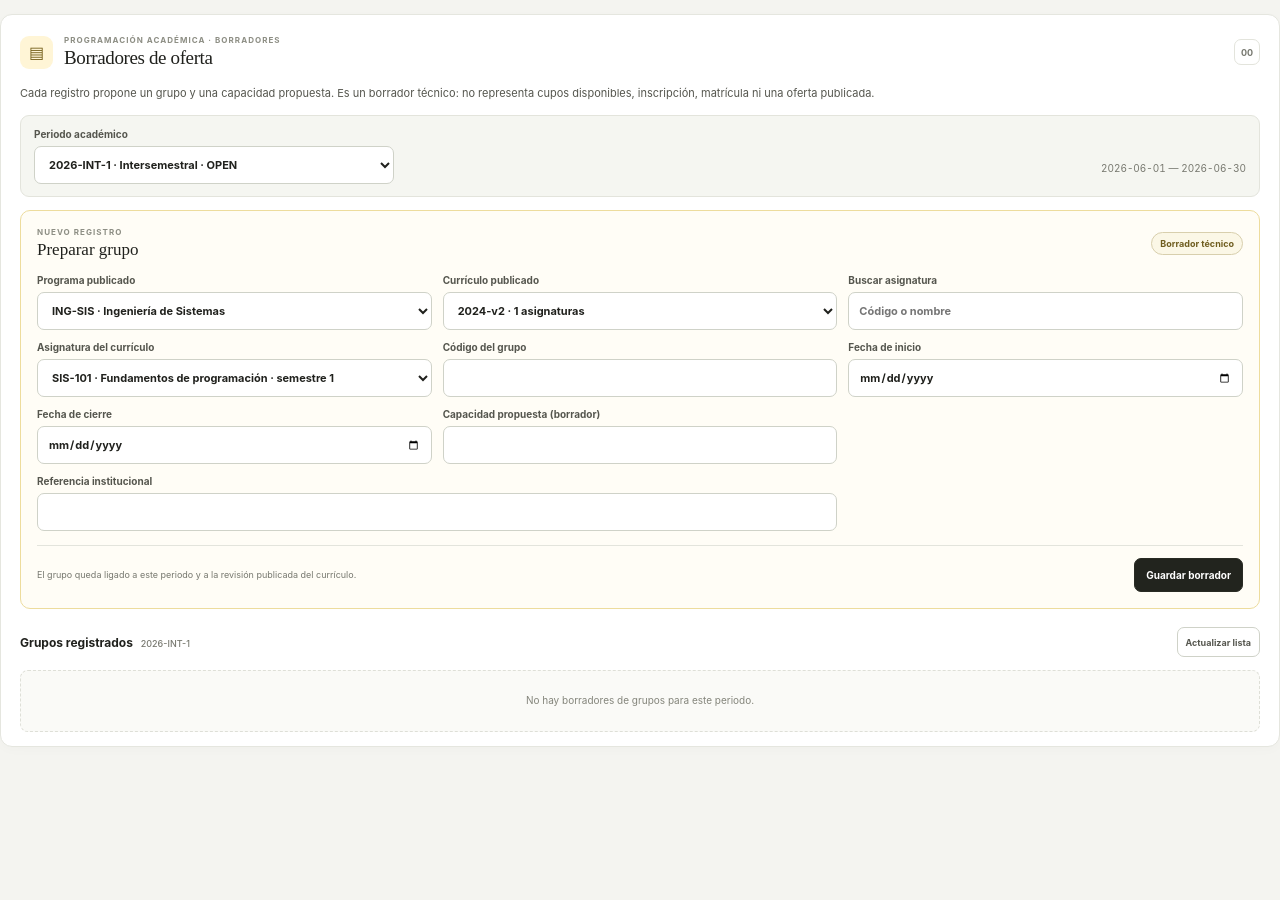
Test case: AcademicOfferingDraftPanel › creates a draft for a published curriculum subject and refreshes without implying availability
Expected: the text "No hay borradores de grupos para este periodo." is shown, [20,670,1260,732]
Type "a-02" into the field labelled "Código del grupo" at (640, 378), box [443,359,837,397]
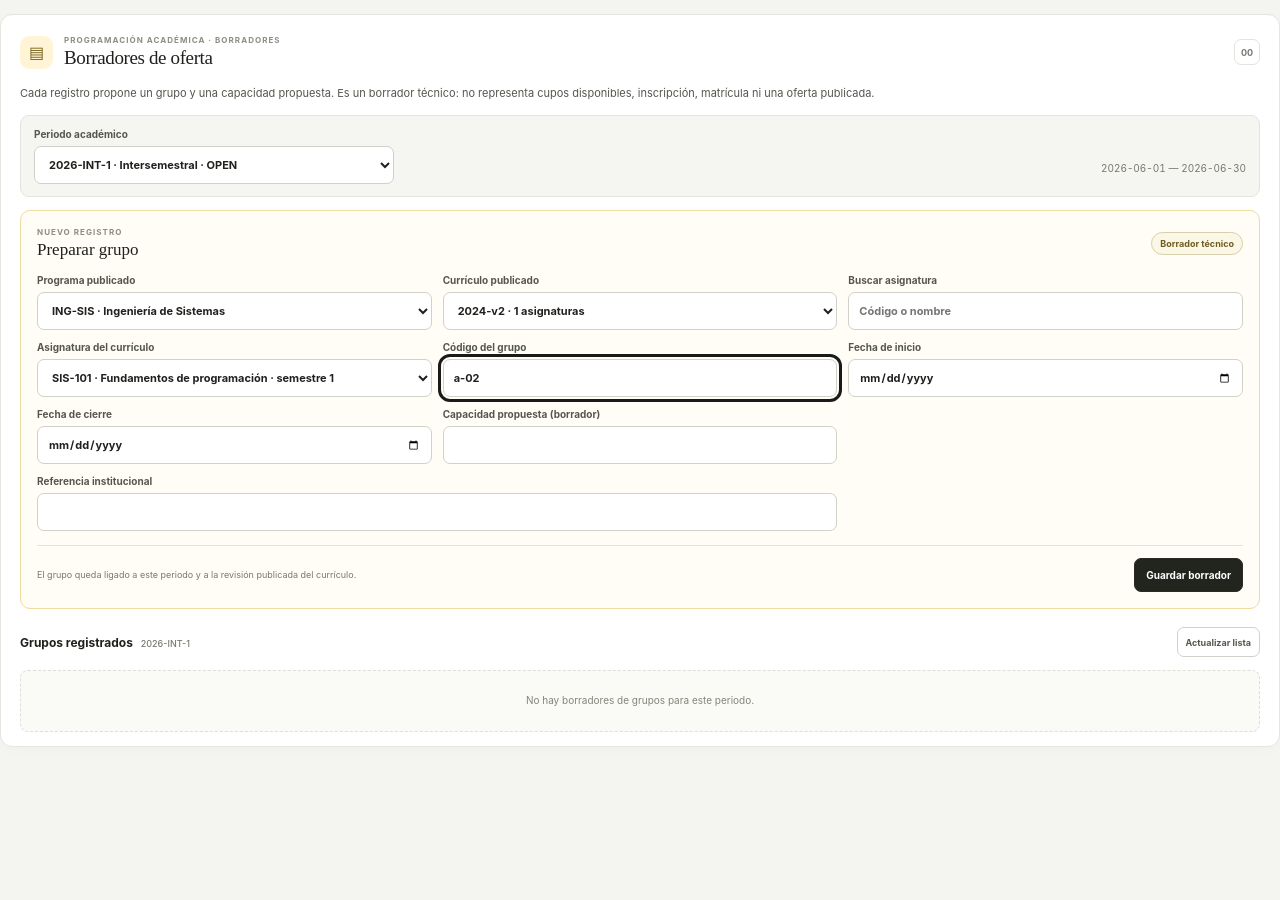
Type "Acta de coordinación 10" into the field labelled "Referencia institucional" at (437, 512), box [37,493,837,531]
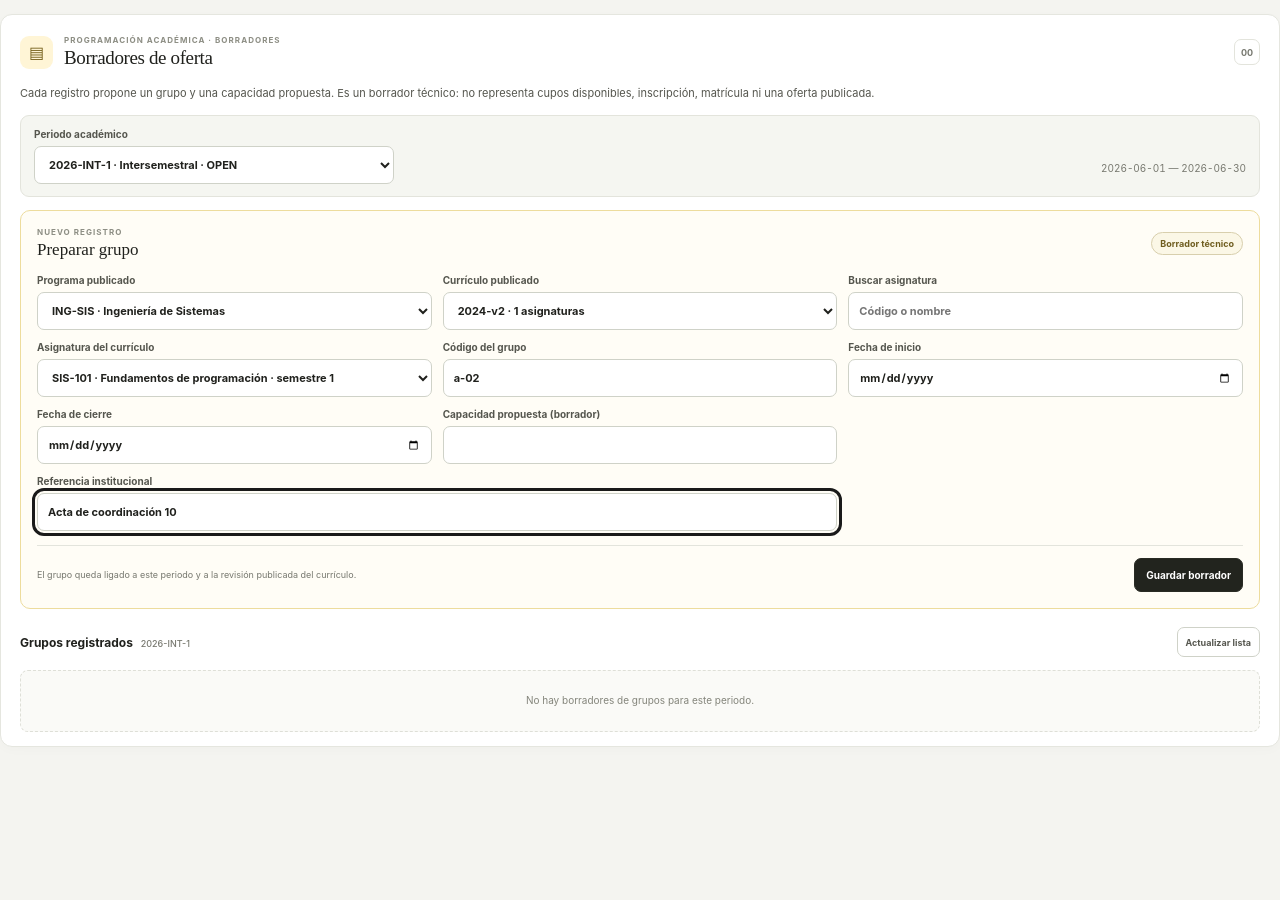
Type "18" into the number field labelled "Capacidad propuesta (borrador)" at (640, 445), box [443,426,837,464]
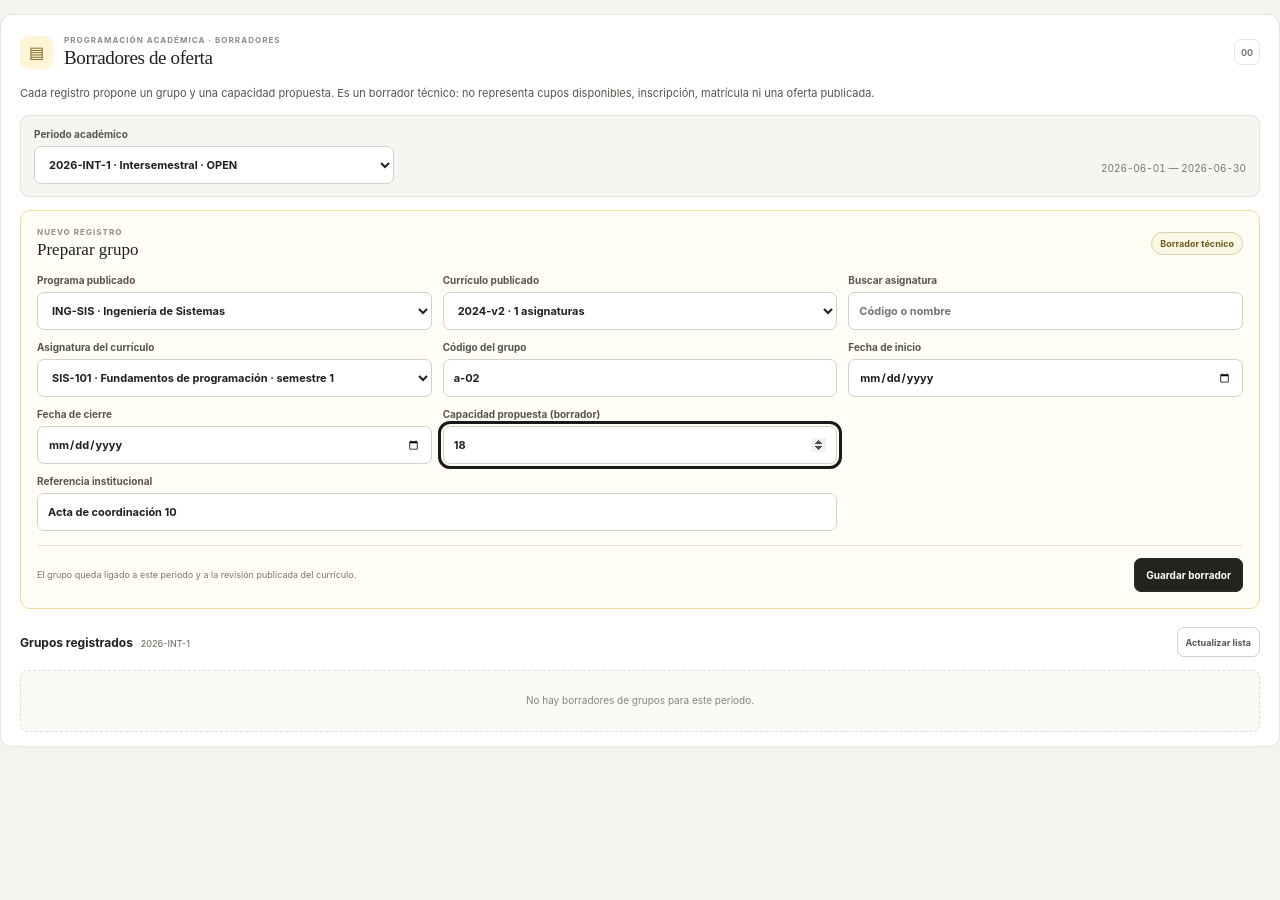
Type "2026-06-02" into the date field labelled "Fecha de inicio" at (1046, 378), box [848,359,1243,397]
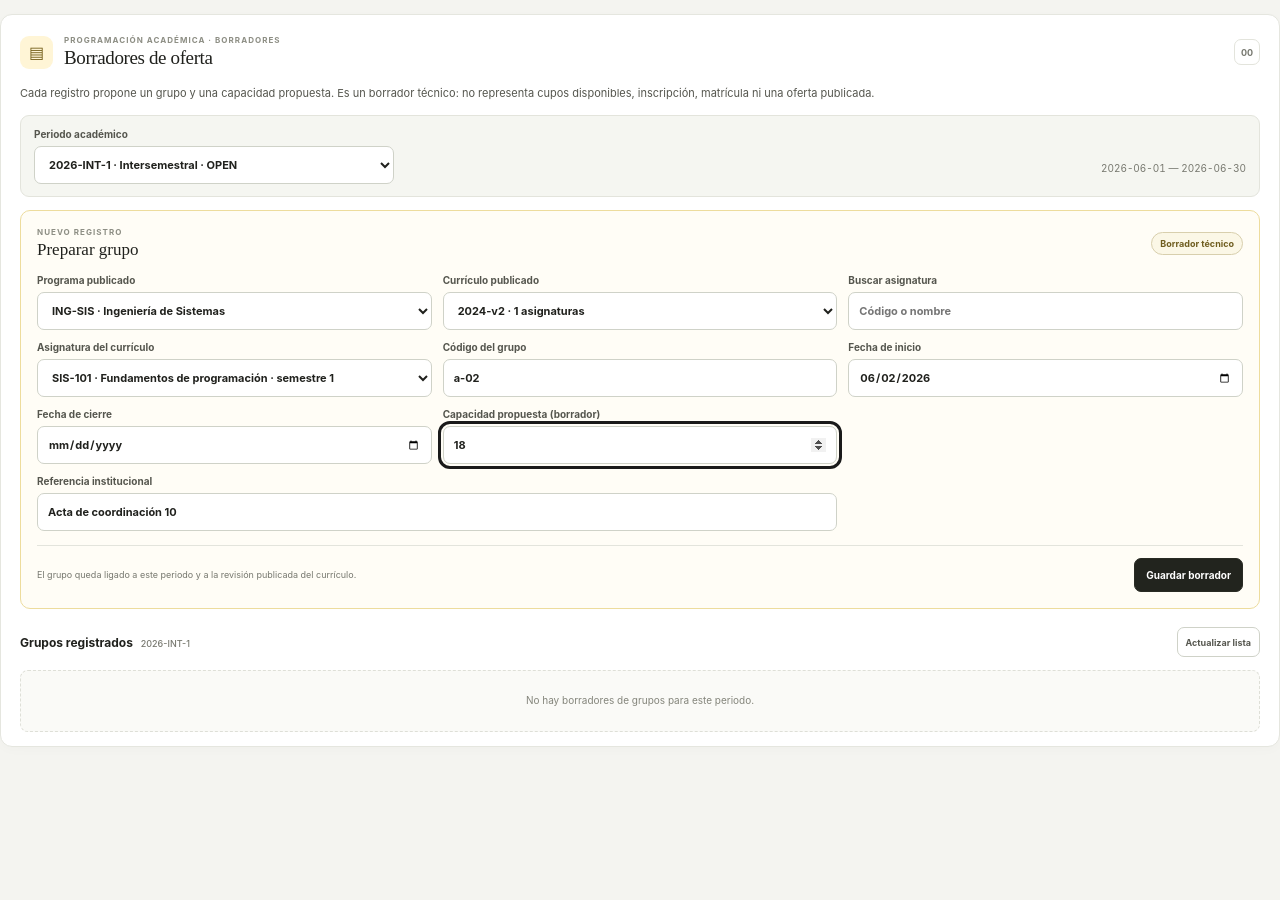
Type "2026-06-29" into the date field labelled "Fecha de cierre" at (234, 445), box [37,426,432,464]
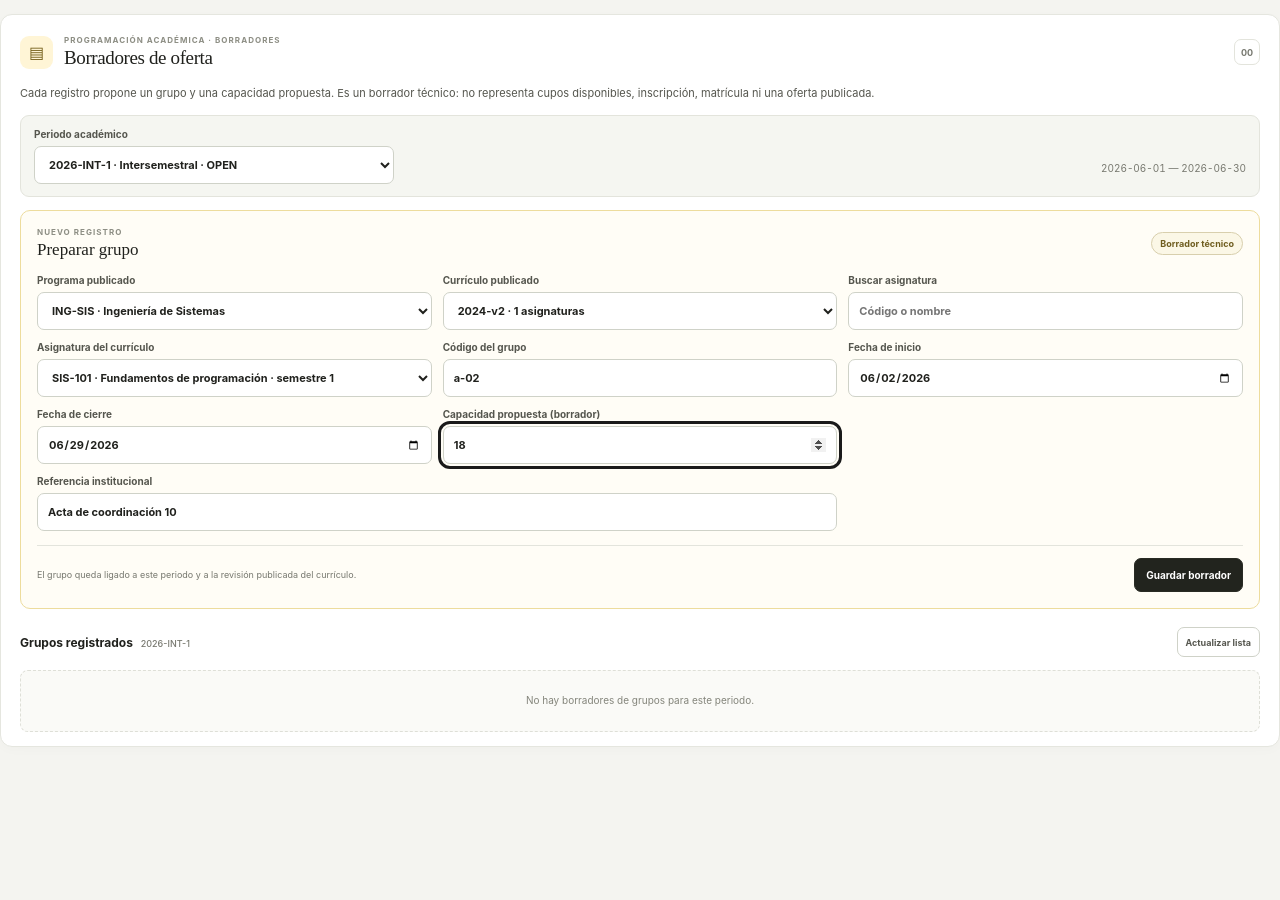
Click the button "Guardar borrador" at (1189, 575), box [1134,558,1243,592]
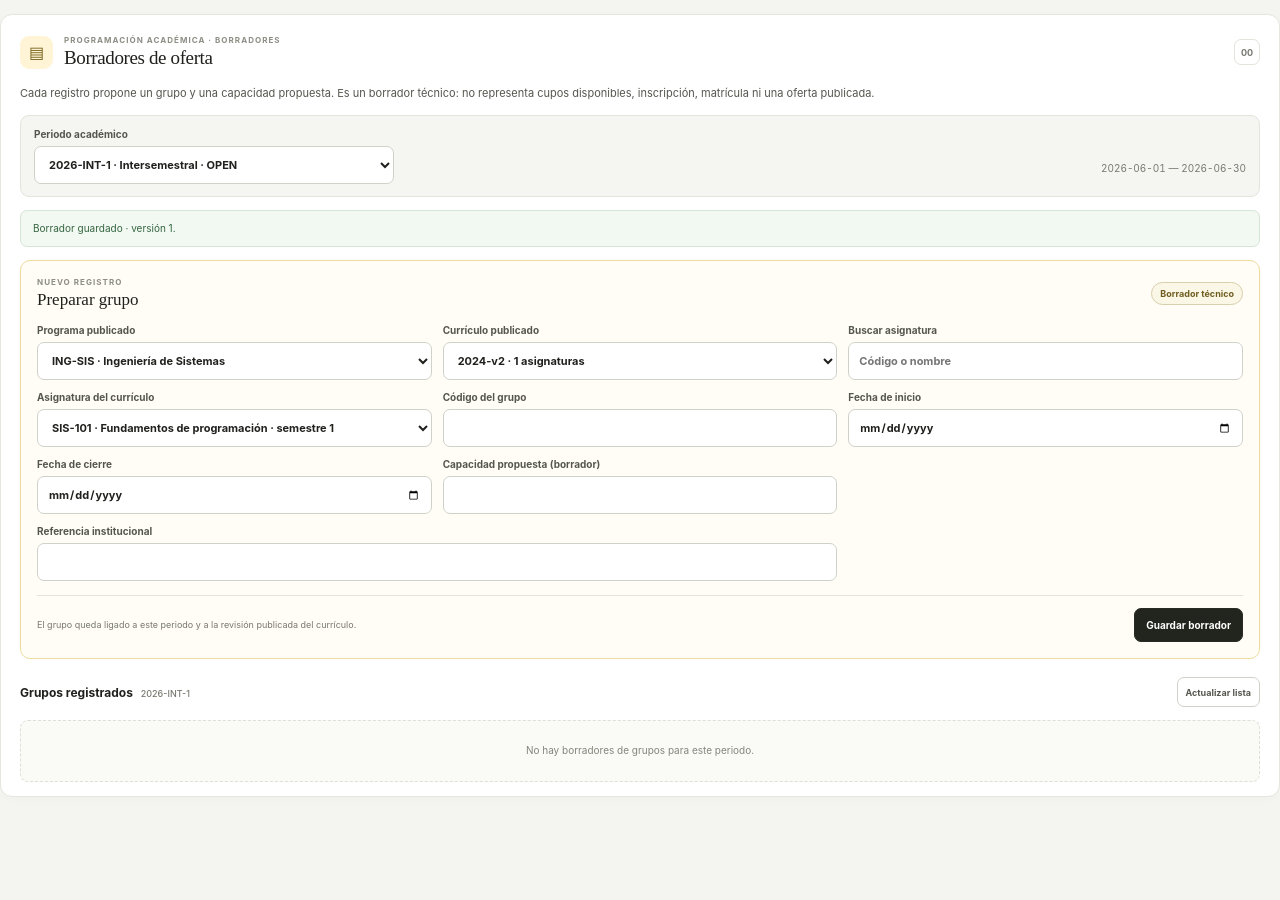
Expected: the text "Borrador guardado · versión 1." is shown, [20,210,1260,247]
